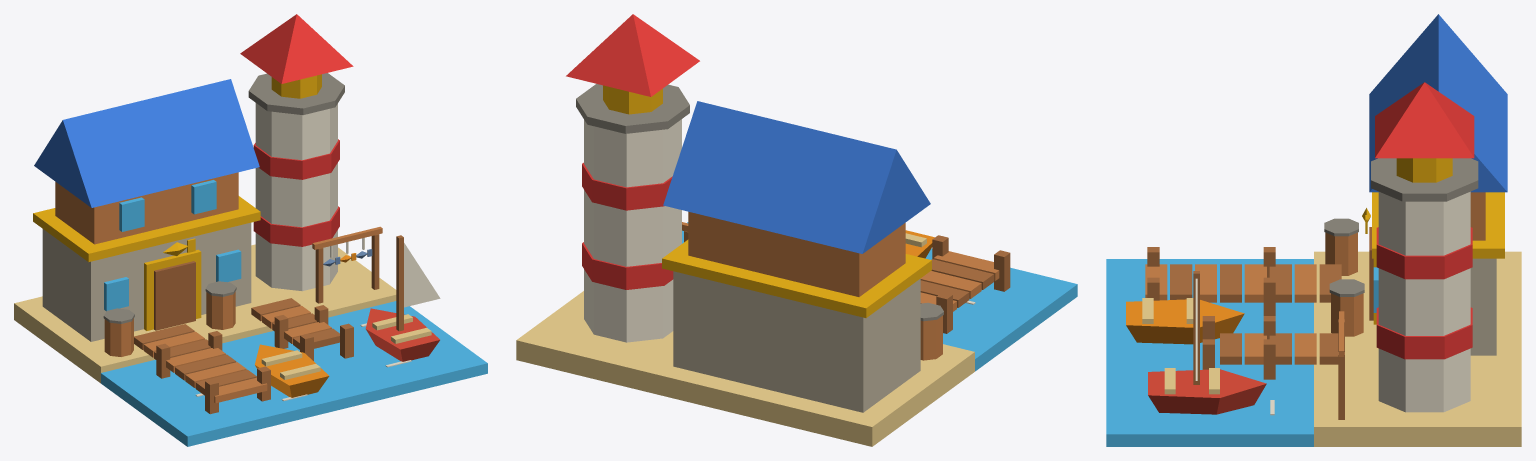
File: fishery_t3_v1.glb
The picture shows the model from 3 angles, left to right: view 1: azimuth 30°, elevation 25°; view 2: azimuth 150°, elevation 25°; view 3: azimuth 270°, elevation 25°; orthographic projection. The views are drawn at different scales.
Parts seen in each view (by area): view 1: fishery_t3_v1; view 2: fishery_t3_v1; view 3: fishery_t3_v1.
Part boxes in pixels (left/top/right/bottom): fishery_t3_v1: left=14, top=14, right=487, bottom=446; fishery_t3_v1: left=516, top=14, right=1077, bottom=446; fishery_t3_v1: left=1106, top=14, right=1521, bottom=446.
Size of the model in its own units: 0.75 by 0.66 by 0.75.
Materials: 1 (1 with a texture image).
